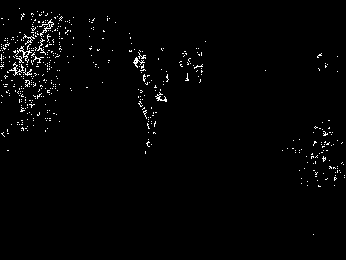person: (137, 72, 167, 150)
